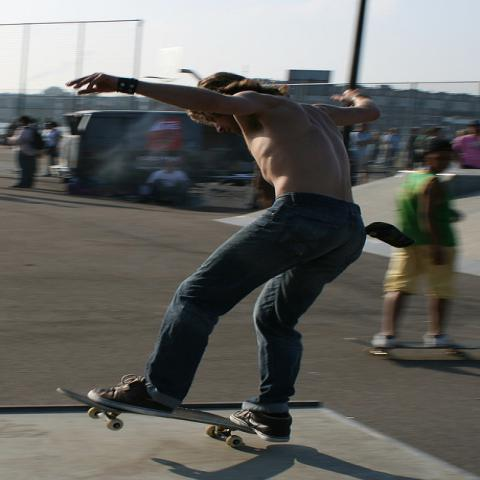truck: (45, 110, 200, 197)
